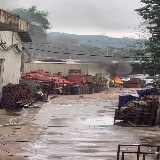fire: (115, 76, 124, 83)
